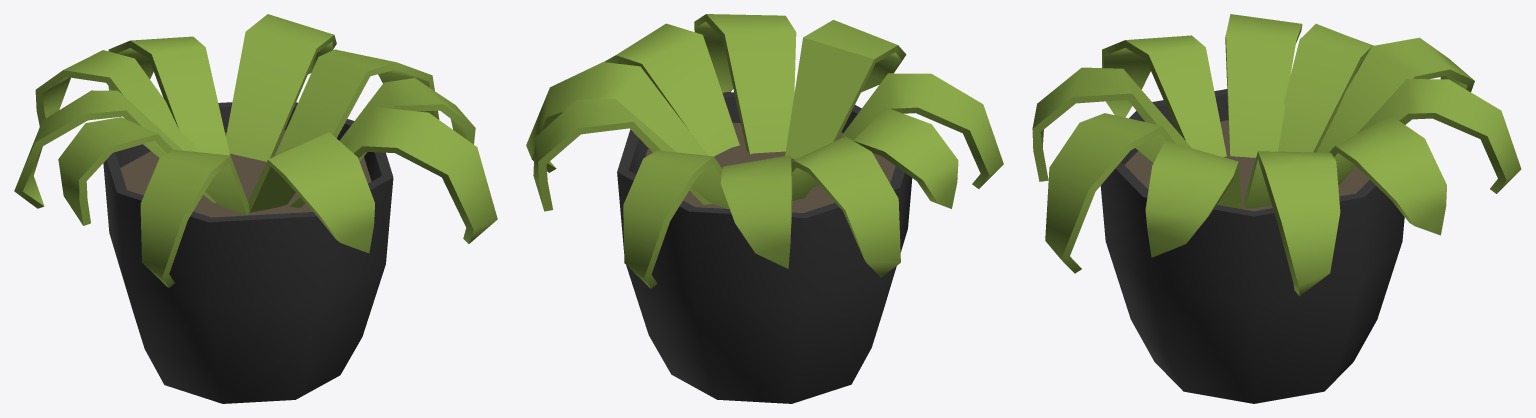
The model's file is small_plant.glb.
The picture shows the model from 3 angles, left to right: view 1: azimuth 30°, elevation 25°; view 2: azimuth 150°, elevation 25°; view 3: azimuth 270°, elevation 25°; orthographic projection. The views are drawn at different scales.
Visible parts, largest first — view 1: Houseplant_5; view 2: Houseplant_5; view 3: Houseplant_5.
Boxes of the visible parts, left/top/right/bottom form: Houseplant_5: left=14, top=14, right=497, bottom=403; Houseplant_5: left=526, top=14, right=1003, bottom=403; Houseplant_5: left=1032, top=14, right=1521, bottom=403.
Size of the model in its own units: 0.6999 by 0.4565 by 0.7226.
